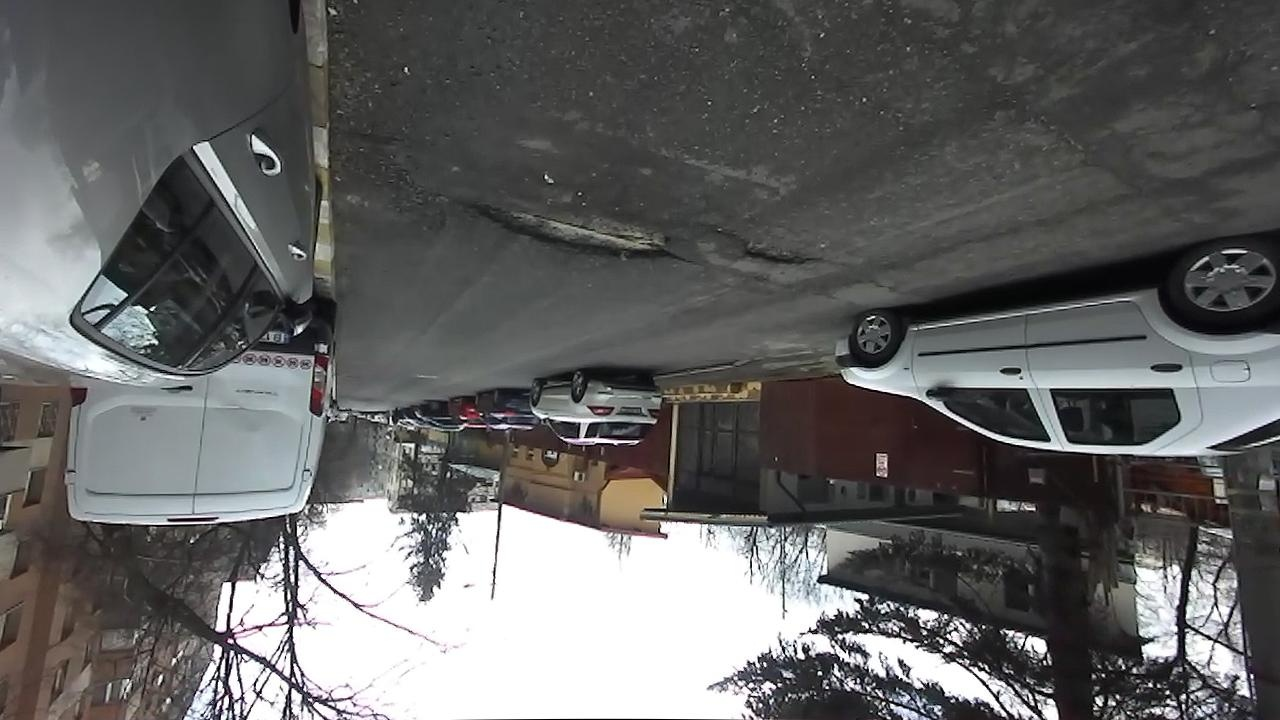pothole: (444, 187, 698, 270), (712, 227, 829, 269)
